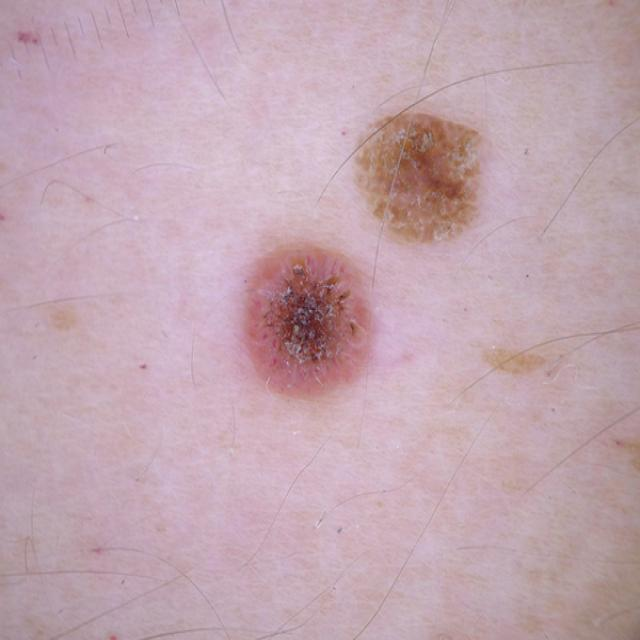Skin-Cancer Pigmented benign keratosis: (137, 30, 640, 508)
